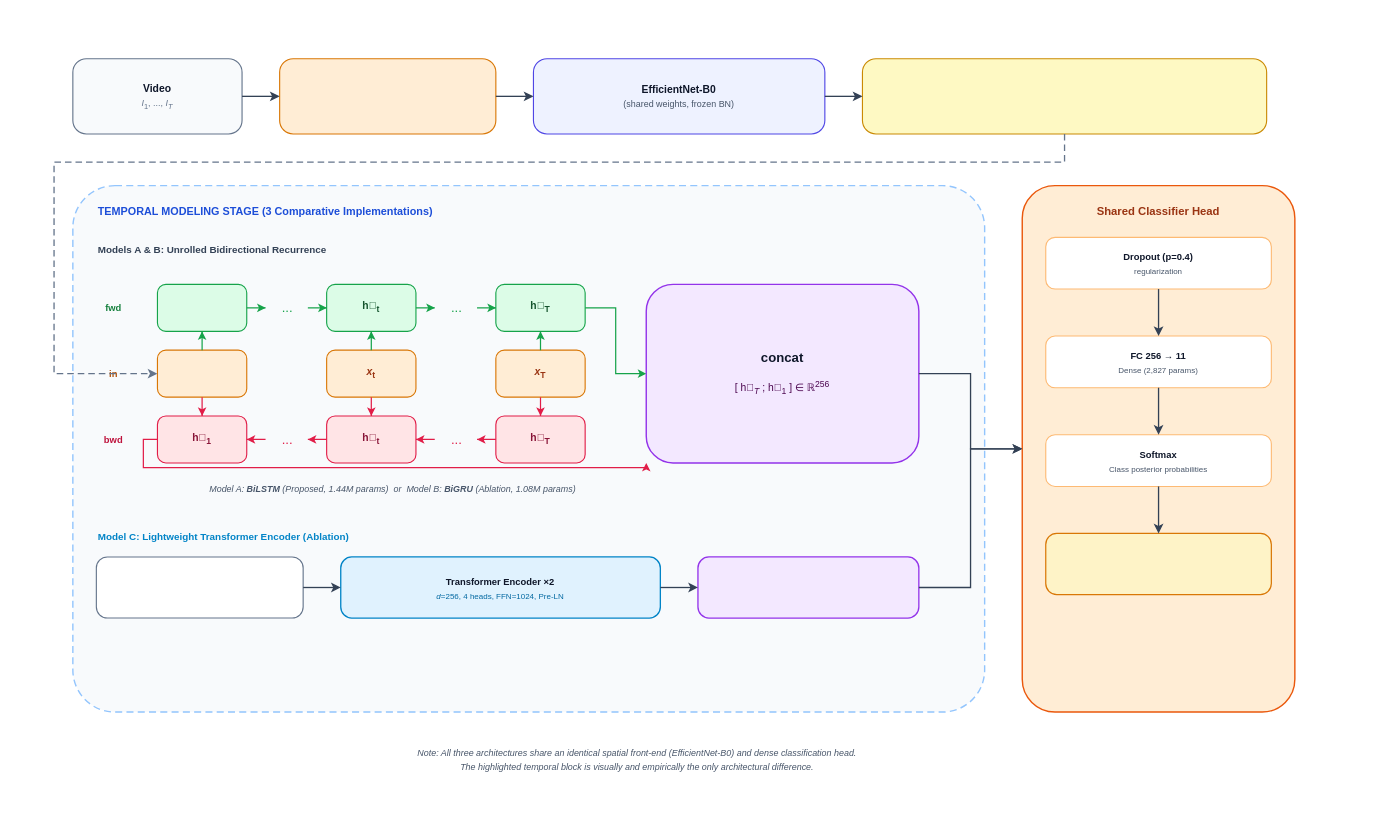
The diagram is 1386 pixels wide and 840 high, and some of its shapes have lost their labels. Each missing label, with the box of its shape:
11 Tai Phake Digits d 0 (Pau) … d 10 (Sip): (1045, 532, 1272, 595)
Dlib 68-Point Mouth ROI (96×96): (279, 58, 496, 134)
h⃗ 1: (156, 283, 247, 331)
Linear Projection 1280 → 256 + Pos. Enc.: (95, 556, 303, 618)
Mean Pooling z ∈ ℝ 256 (1.58M params): (697, 556, 919, 618)
x 1: (156, 349, 247, 397)
X = [ x 1 , ..., x T ] Sequence: x t ∈ ℝ 1280 (GAP per frame): (861, 58, 1267, 134)
